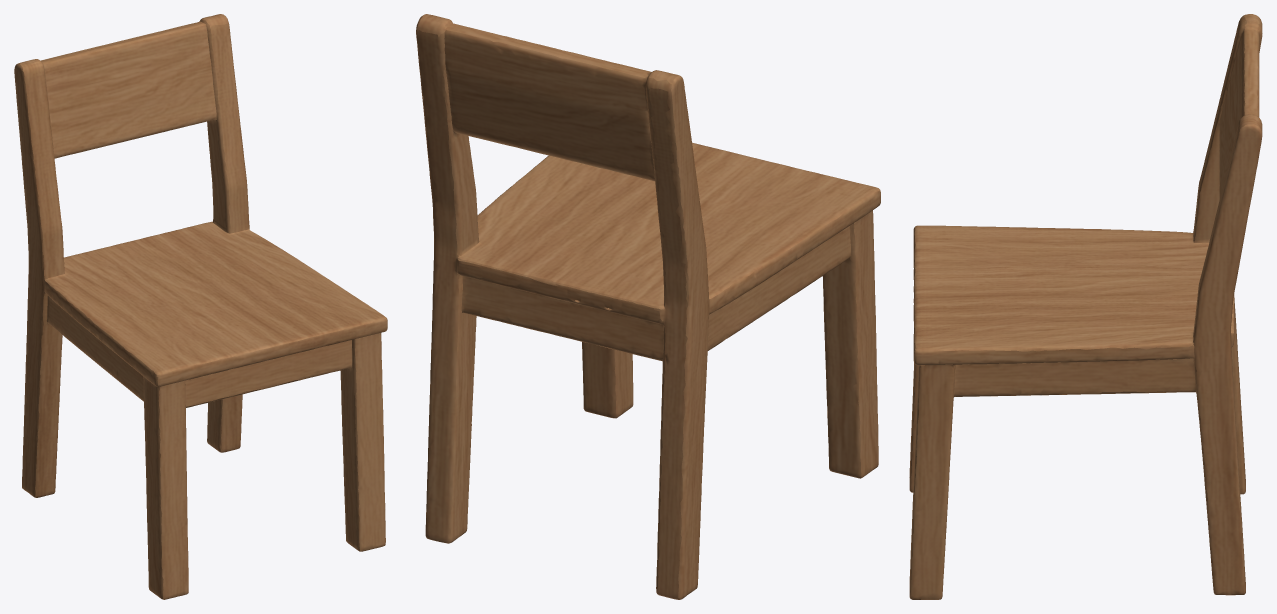
File: chair_lux3d_g1_30471.glb
3 renders of one model, left to right at view 1: azimuth 30°, elevation 25°; view 2: azimuth 150°, elevation 25°; view 3: azimuth 270°, elevation 25°, orthographic. The views are drawn at different scales.
Parts seen in each view (by area): view 1: world; view 2: world; view 3: world.
Part boxes in pixels (left/top/right/bottom): world: left=14, top=14, right=387, bottom=599; world: left=416, top=14, right=880, bottom=599; world: left=909, top=14, right=1262, bottom=599.
Bounding box in the file's own units: 0.4882 × 0.85 × 0.5772.
1 material, 1 textured.
